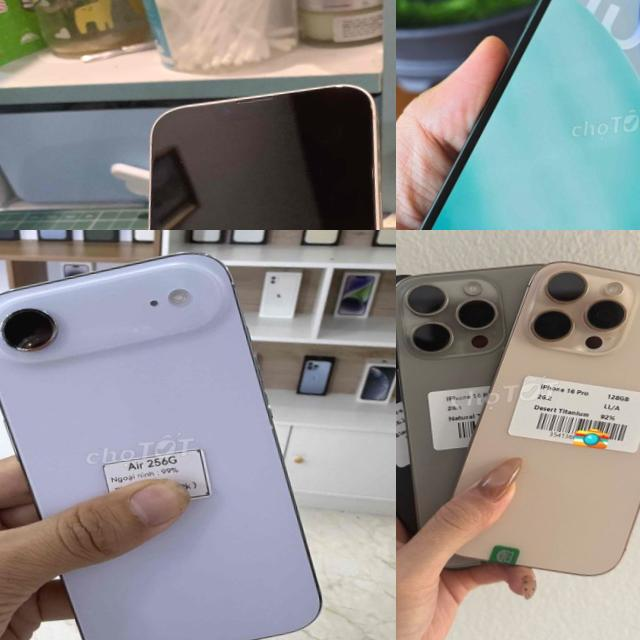gen_12_13: (106, 78, 396, 230)
gen_16: (420, 244, 640, 600), (396, 0, 640, 230)
gen_17: (0, 231, 336, 640)
